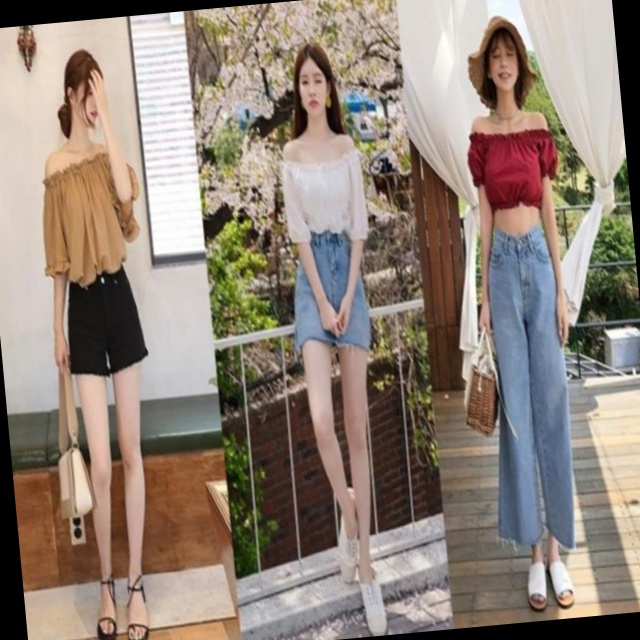Crop_Top: (484, 132, 543, 241)
Miniskirt: (283, 227, 390, 520)
Shorts: (60, 265, 169, 577)
Sleeveless: (41, 151, 59, 178), (281, 134, 298, 160), (337, 131, 355, 155), (471, 114, 485, 133)
low_neckline: (294, 130, 350, 236)
